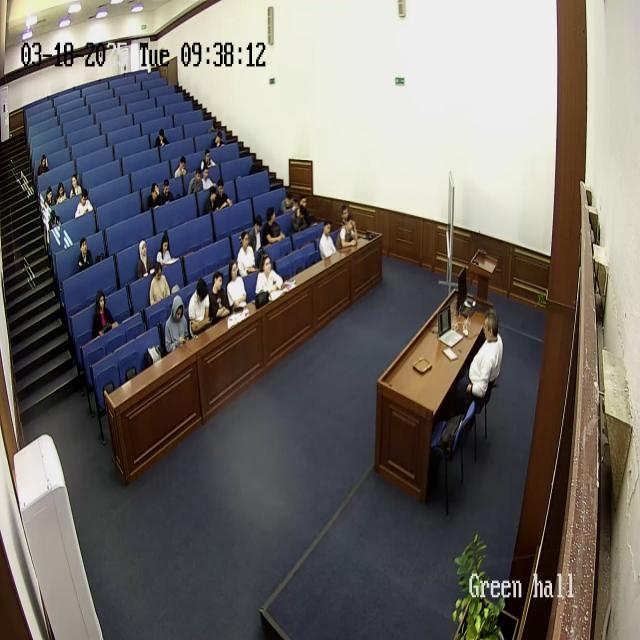person: (455, 309, 503, 415), (163, 293, 189, 353), (188, 278, 212, 335), (92, 289, 118, 339), (255, 252, 283, 298), (225, 259, 248, 313), (208, 268, 230, 322), (149, 261, 171, 306), (236, 230, 256, 276), (336, 209, 358, 249), (318, 218, 338, 260), (264, 206, 286, 244), (291, 195, 311, 233), (156, 230, 174, 267), (76, 236, 94, 273), (135, 239, 151, 280), (249, 216, 265, 252), (75, 188, 93, 218), (215, 180, 233, 210), (203, 184, 220, 214), (147, 182, 163, 212), (41, 186, 56, 218), (188, 167, 204, 195), (160, 177, 174, 204), (200, 164, 214, 190), (174, 156, 188, 180), (69, 175, 83, 198), (201, 148, 215, 170), (55, 182, 68, 204), (37, 154, 49, 177), (211, 132, 225, 150), (155, 129, 167, 148)
